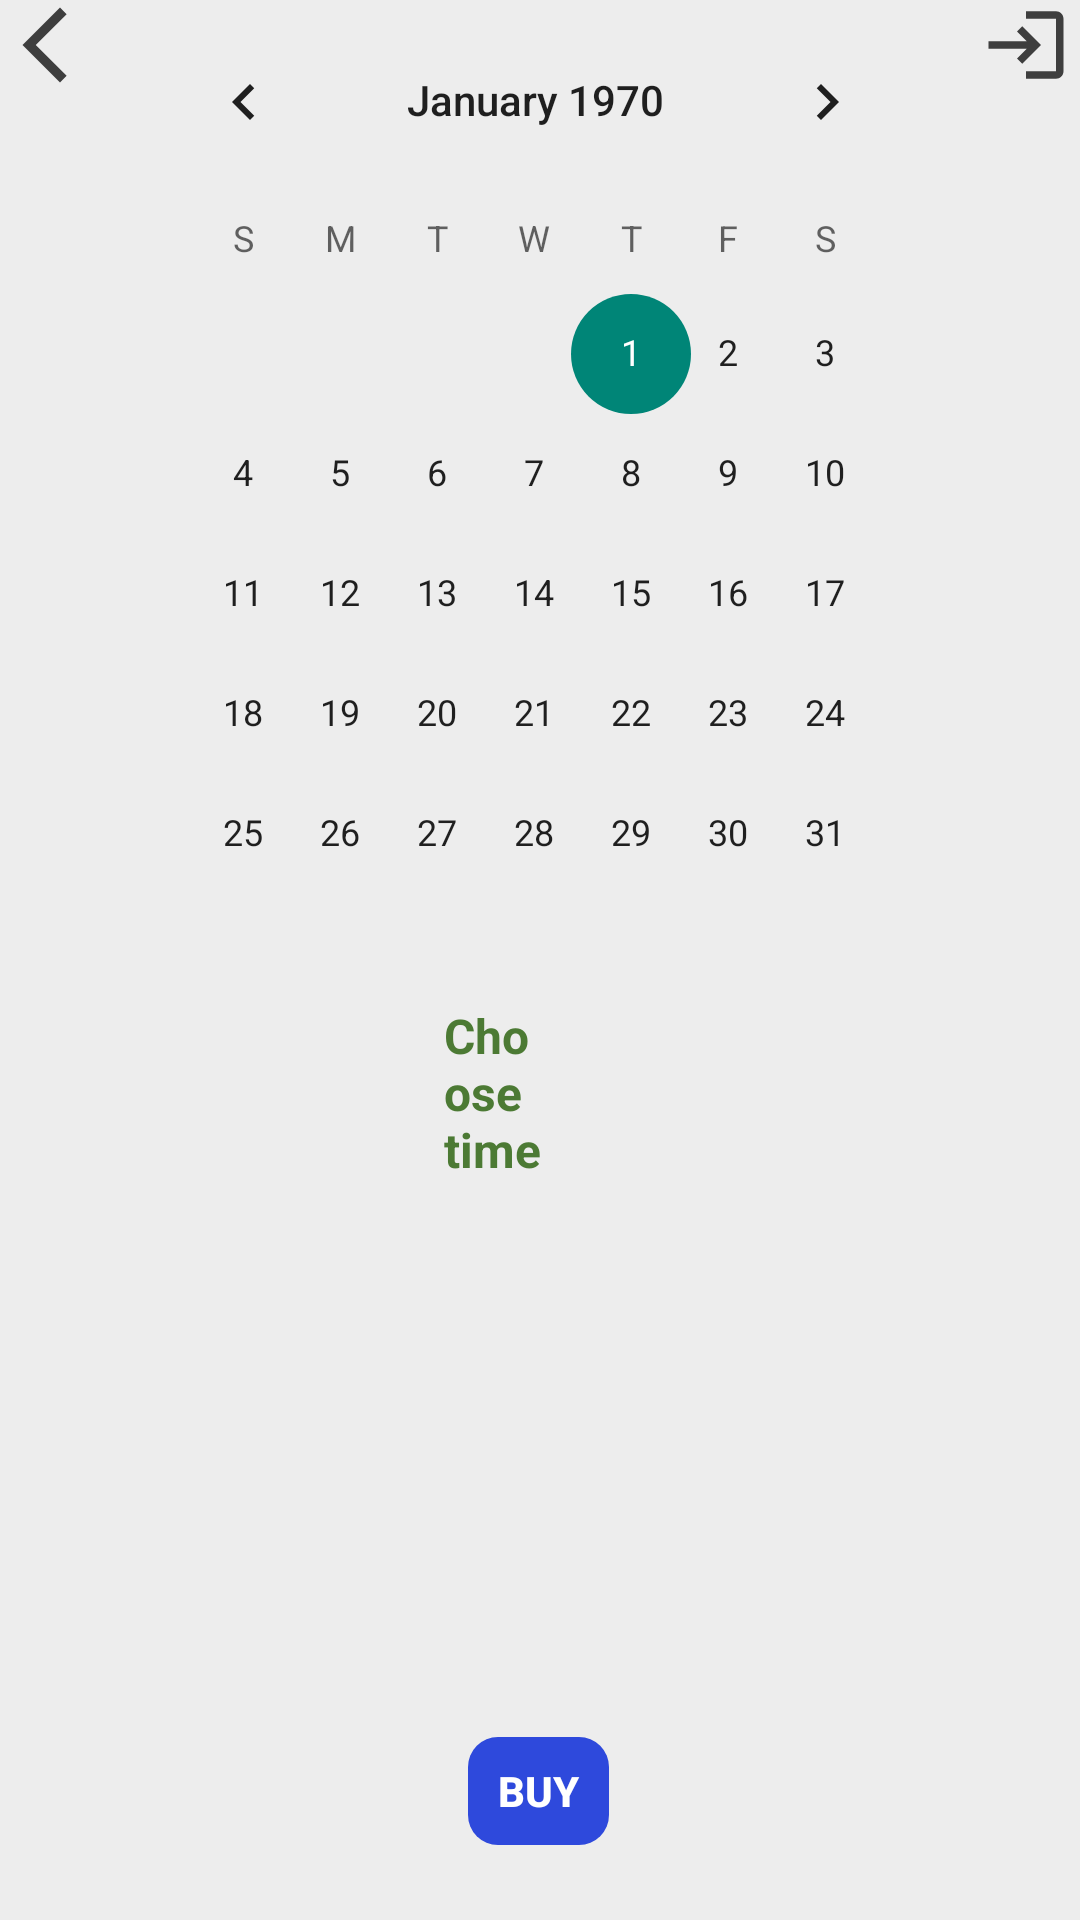

Where to tap for icons on this 1080px x 1920px app screen, as (x=x, y=y):
back: (x=45, y=45)
